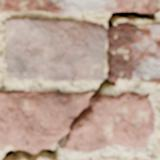brick: (5, 18, 106, 81), (111, 23, 159, 84), (0, 0, 135, 15), (136, 0, 157, 12)
broken_brick: (61, 92, 156, 153), (0, 90, 91, 153)
crack: (0, 0, 159, 159)
